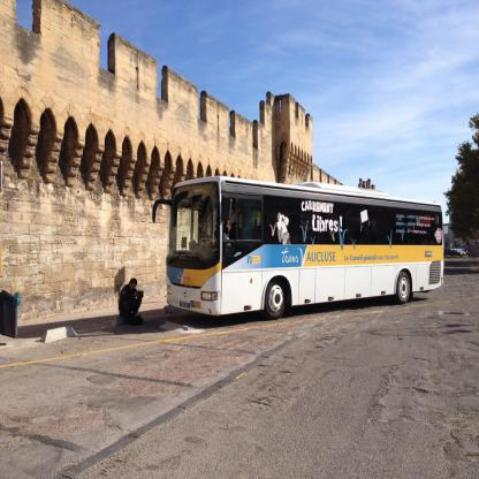bus: (152, 111, 476, 329)
